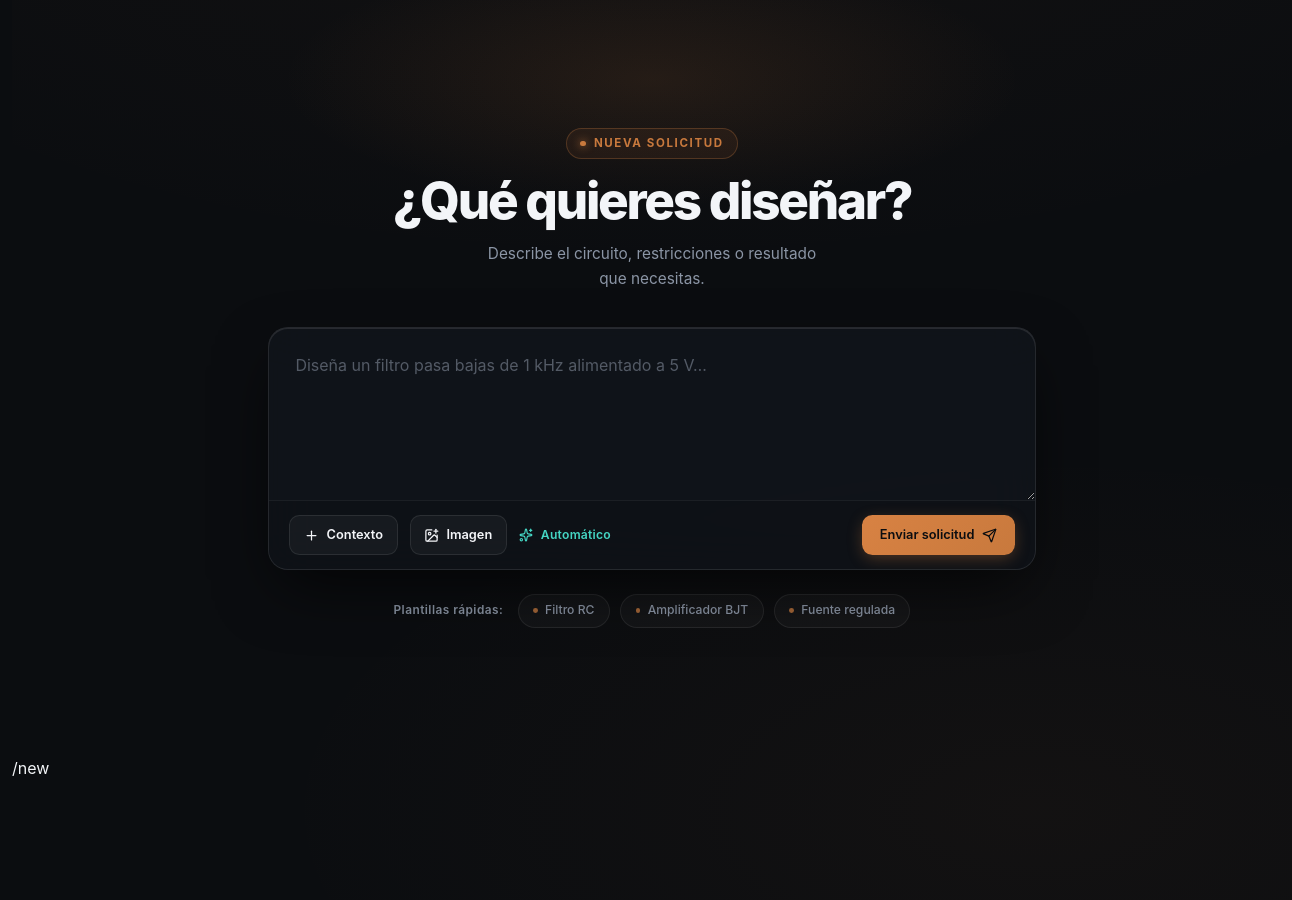
uses an example prompt without submitting it
Click the button with aria-label "Usar ejemplo: Filtro RC" at (564, 611), box [518,594,610,628]
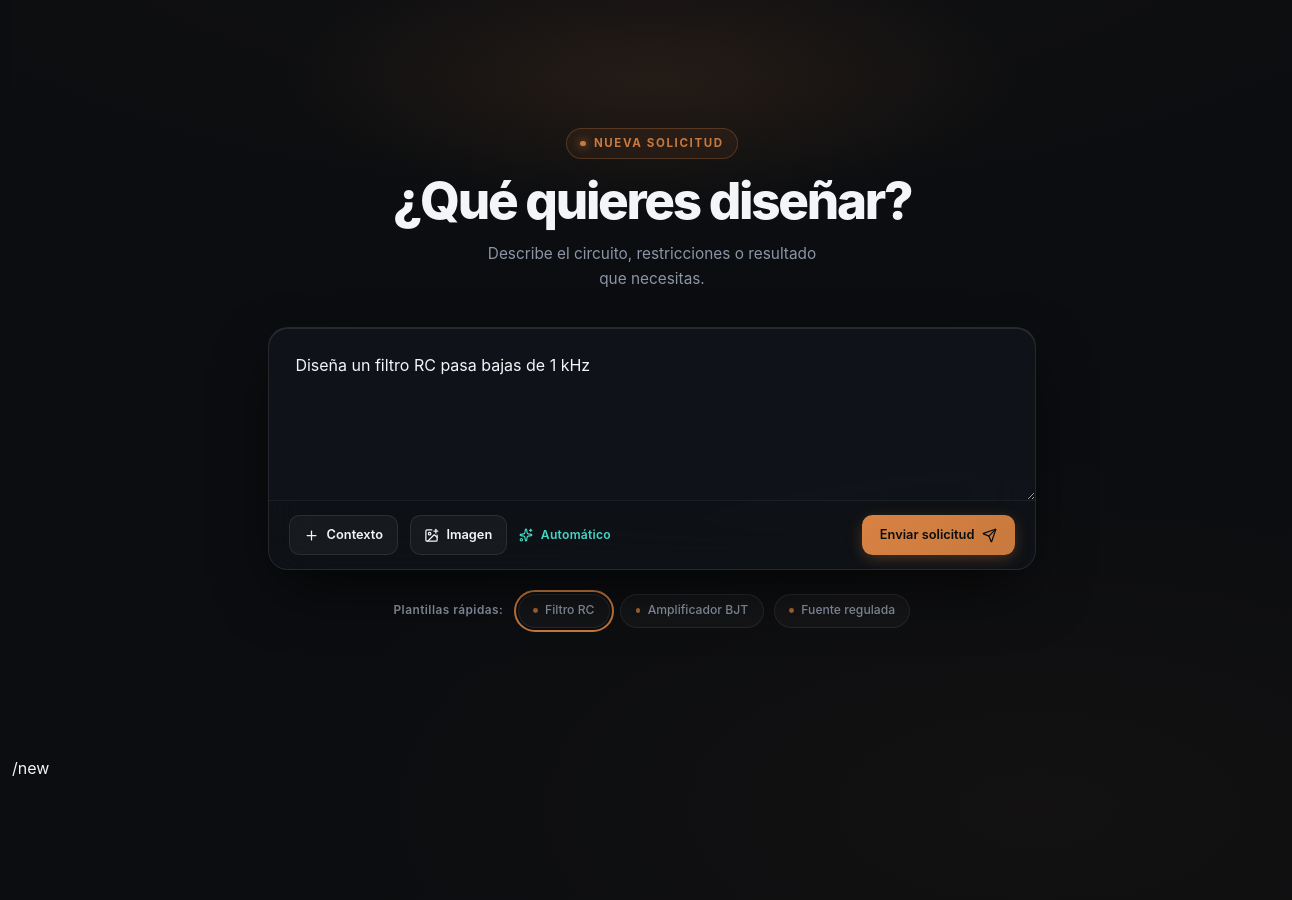
Result: the text box holds "Diseña un filtro RC pasa bajas de 1 kHz" at [269,328,1035,500]
